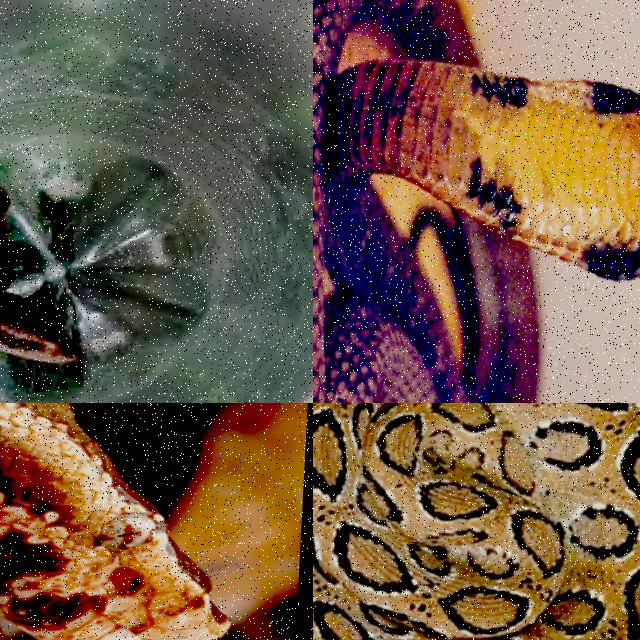Calloselasma rhodostoma: (0, 225, 80, 363)
Daboia siamensis: (313, 403, 639, 639)
Ophiophagus hannah: (313, 0, 639, 402)
Ovophis monticola: (0, 403, 228, 639)
